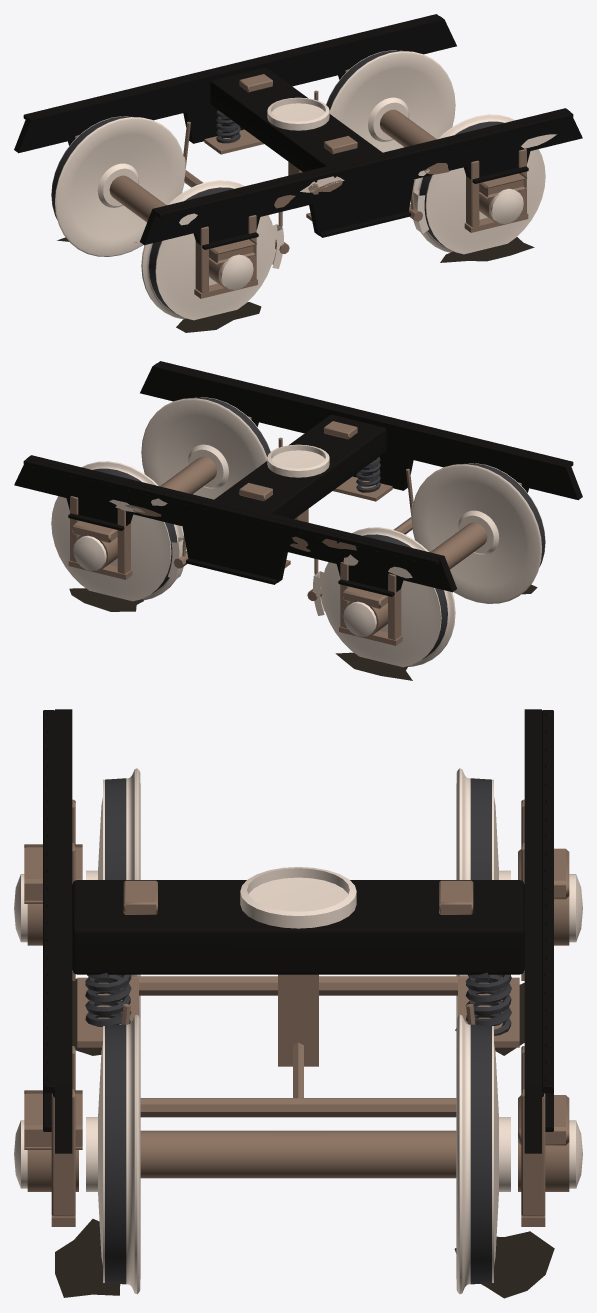
File: train_bogie.glb
The picture shows the model from 3 angles, top to bottom: view 1: azimuth 30°, elevation 25°; view 2: azimuth 150°, elevation 25°; view 3: azimuth 270°, elevation 25°; orthographic projection. The views are drawn at different scales.
Visible parts, largest first — view 1: teil.003, teil.001, teil, teil.002, teil.004; view 2: teil.003, teil.001, teil, teil.002, teil.004; view 3: teil.003, teil, teil.001, teil.002, teil.004.
Boxes of the visible parts, x1,y1,x2,y2 form: teil.003: (14,14,582,249); teil.001: (51,50,556,320); teil: (75,69,528,298); teil.002: (51,50,503,314); teil.004: (57,237,534,332); teil.003: (14,361,582,596); teil.001: (51,397,545,667); teil: (68,416,521,645); teil.002: (93,397,545,662); teil.004: (69,584,537,680); teil.003: (43,709,553,1153); teil: (24,799,569,1226); teil.001: (14,768,582,1294); teil.002: (85,778,511,1284); teil.004: (55,978,554,1298).
Size of the model in its own units: 2.76 by 0.865 by 1.66.
